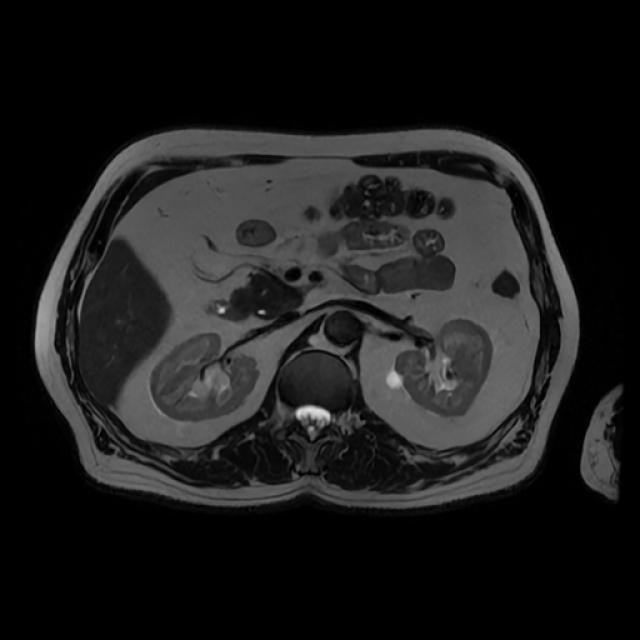sag: (147, 331, 261, 422)
sol: (385, 318, 493, 417)
